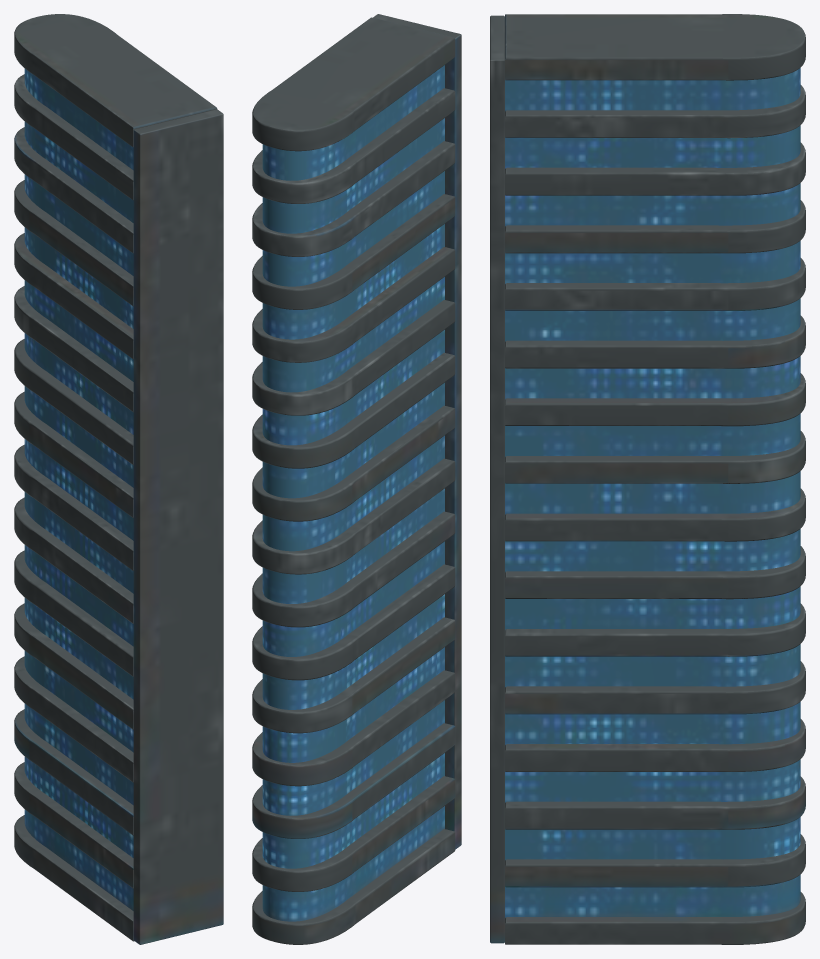
The model's file is scifi-b10.gltf.
The picture shows the model from 3 angles, left to right: view 1: azimuth 30°, elevation 25°; view 2: azimuth 150°, elevation 25°; view 3: azimuth 270°, elevation 25°; orthographic projection. The views are drawn at different scales.
Parts seen in each view (by area): view 1: lod0; view 2: lod0; view 3: lod0.
Part boxes in pixels (x1,y1,x2,y2): lod0: (14,14,223,944); lod0: (252,14,461,944); lod0: (490,14,805,944).
Size of what is drawn, in the model's own units: 25.21 by 231 by 74.5.
1 material, 1 textured.
